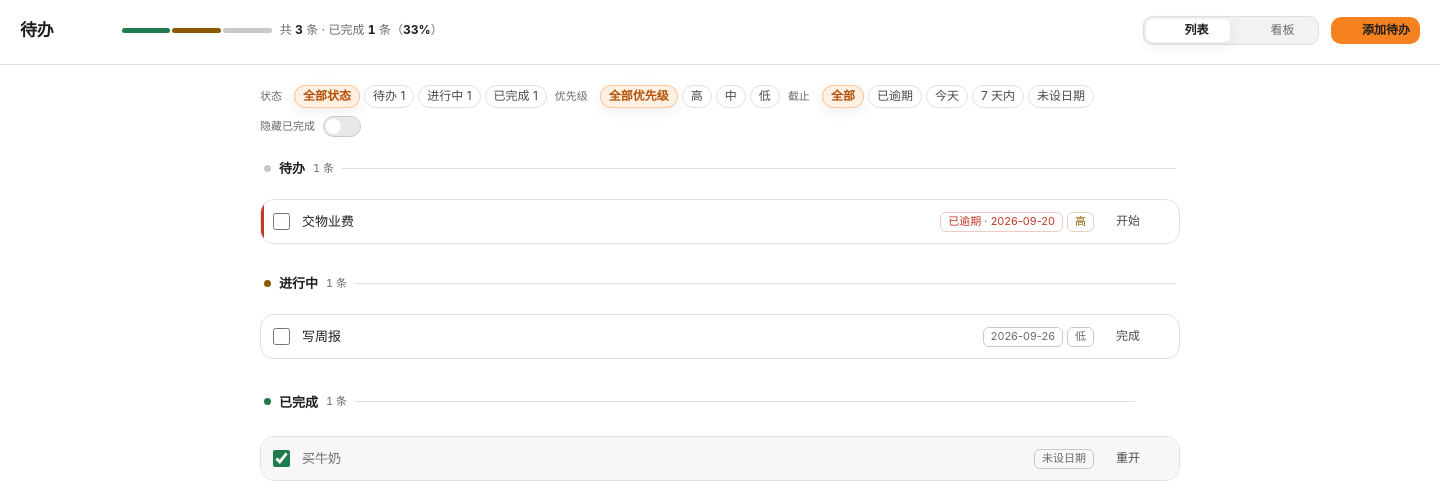
Test: 筛选（纯本地） › 按状态筛选
Click the button "已完成 1" at [516, 96], box [484,85,547,108]
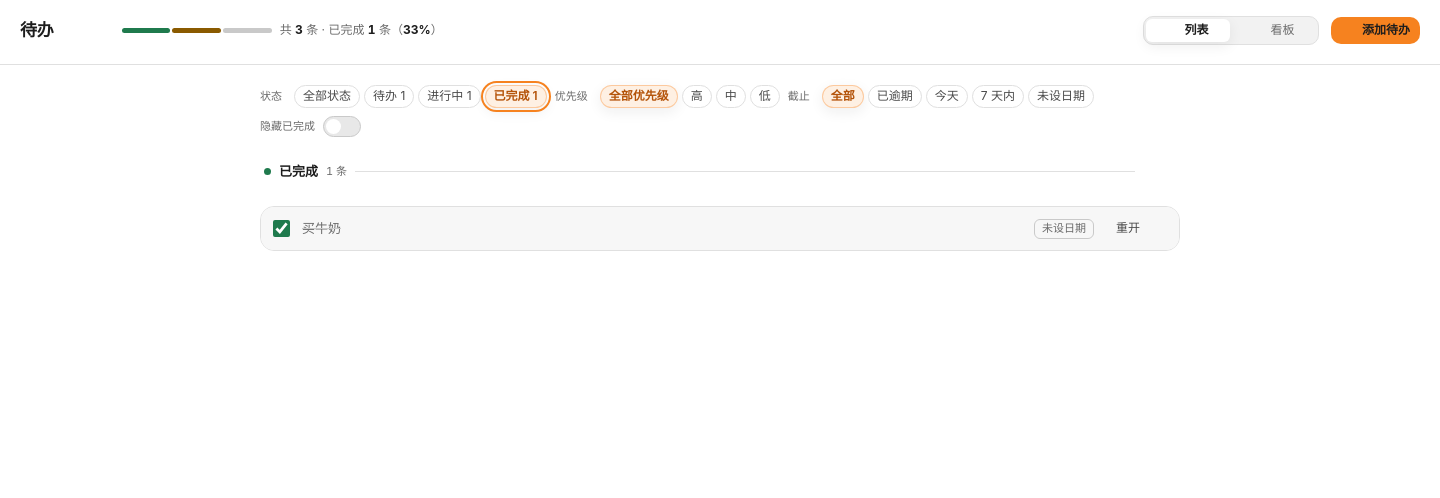
Check: the text "买牛奶" is shown, box [302,219,1022,238]
Check: the number of elements with class "taskrow" is 1, box [261,207,1179,250]
